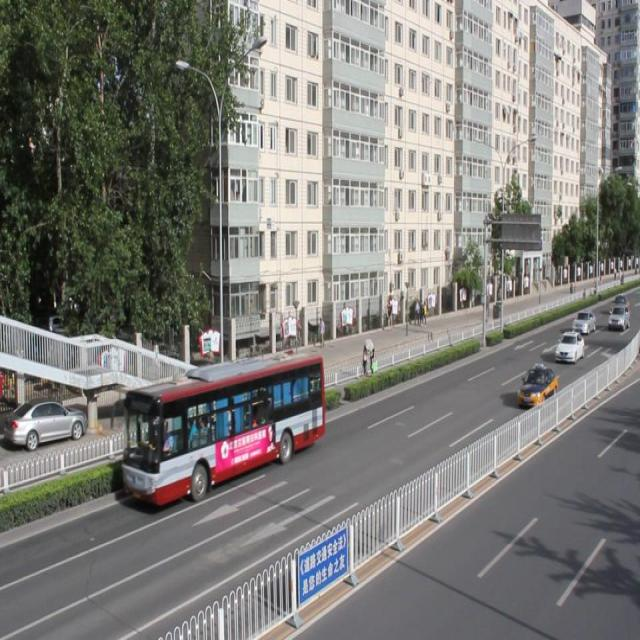car: (515, 362, 557, 407), (554, 328, 584, 362)
van: (125, 353, 322, 504)
